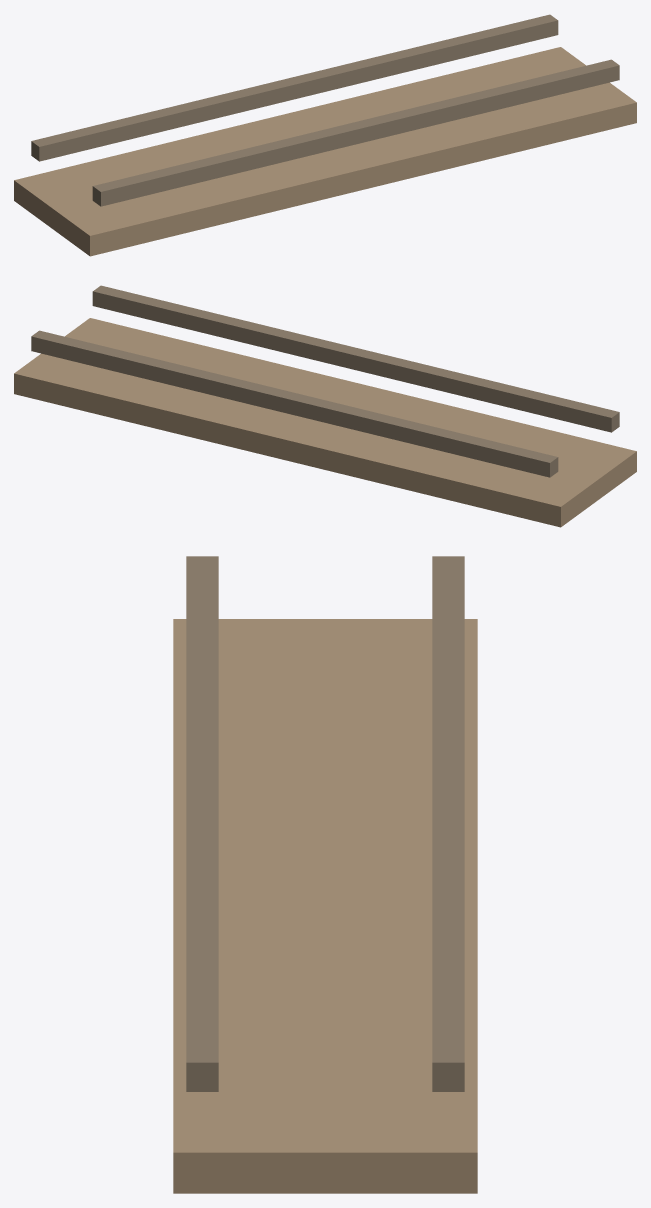
Rendered from bridge_lattice.glb.
The picture shows the model from 3 angles, top to bottom: view 1: azimuth 30°, elevation 25°; view 2: azimuth 150°, elevation 25°; view 3: azimuth 270°, elevation 25°; orthographic projection. The views are drawn at different scales.
Visible parts, largest first — view 1: world; view 2: world; view 3: world.
Boxes of the visible parts, x1,y1,x2,y2 form: world: [14, 14, 636, 256]; world: [14, 285, 636, 527]; world: [173, 556, 477, 1193].
Bounding box in the file's own units: 3.9 × 0.4 × 0.94.
